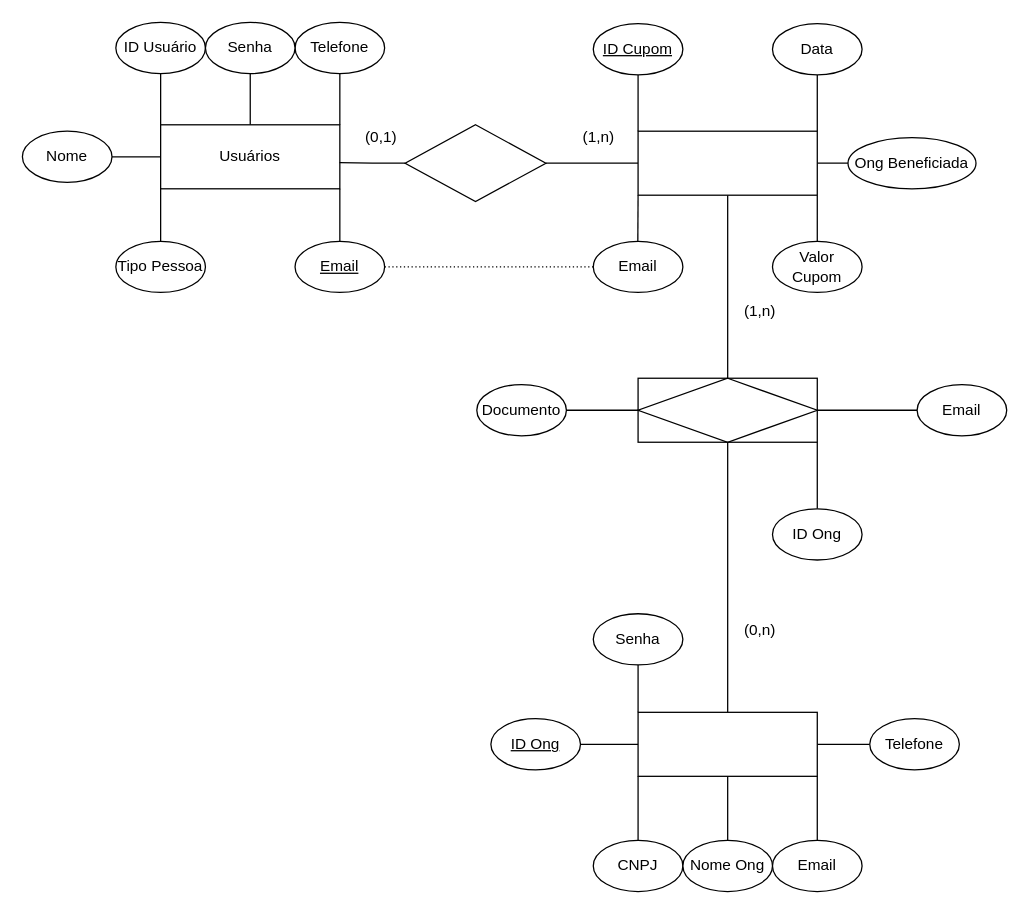
Some shapes in this 1029 by 914 pixel diagram are drawn without their labels. Here are the shapes that lost their labels. From the top down, the centre of each, then its label:
(x=475, y=163): Doa
(x=727, y=162): Cupons
(x=727, y=409): Recebe
(x=727, y=743): Ongs
